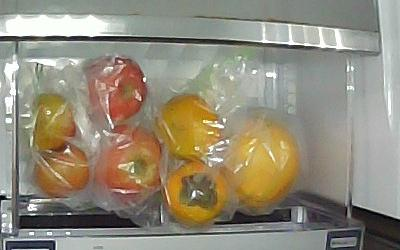apple_vinyl: (95, 126, 162, 203), (81, 54, 147, 129)
grapefruit_vinyl: (221, 118, 299, 213)
persimmon_vinyl: (165, 160, 230, 228), (155, 95, 220, 161)
prune_vinyl: (33, 144, 91, 197), (28, 93, 76, 151)
